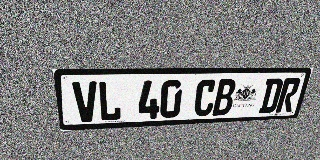0: (159, 80, 183, 118)
4: (138, 80, 161, 119)
B: (212, 79, 237, 116)
C: (193, 79, 217, 117)
D: (258, 78, 284, 113)
L: (97, 81, 121, 121)
R: (275, 78, 302, 113)
V: (72, 81, 99, 122)
